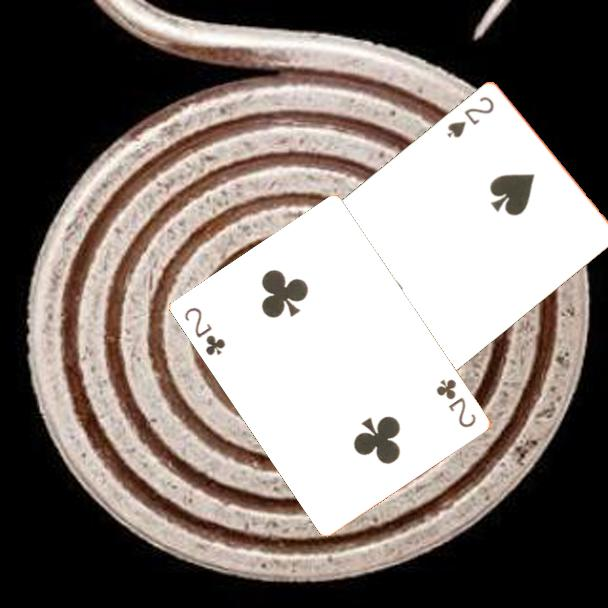c02: (181, 304, 229, 359), (433, 375, 480, 431)
s02: (444, 92, 497, 141)
